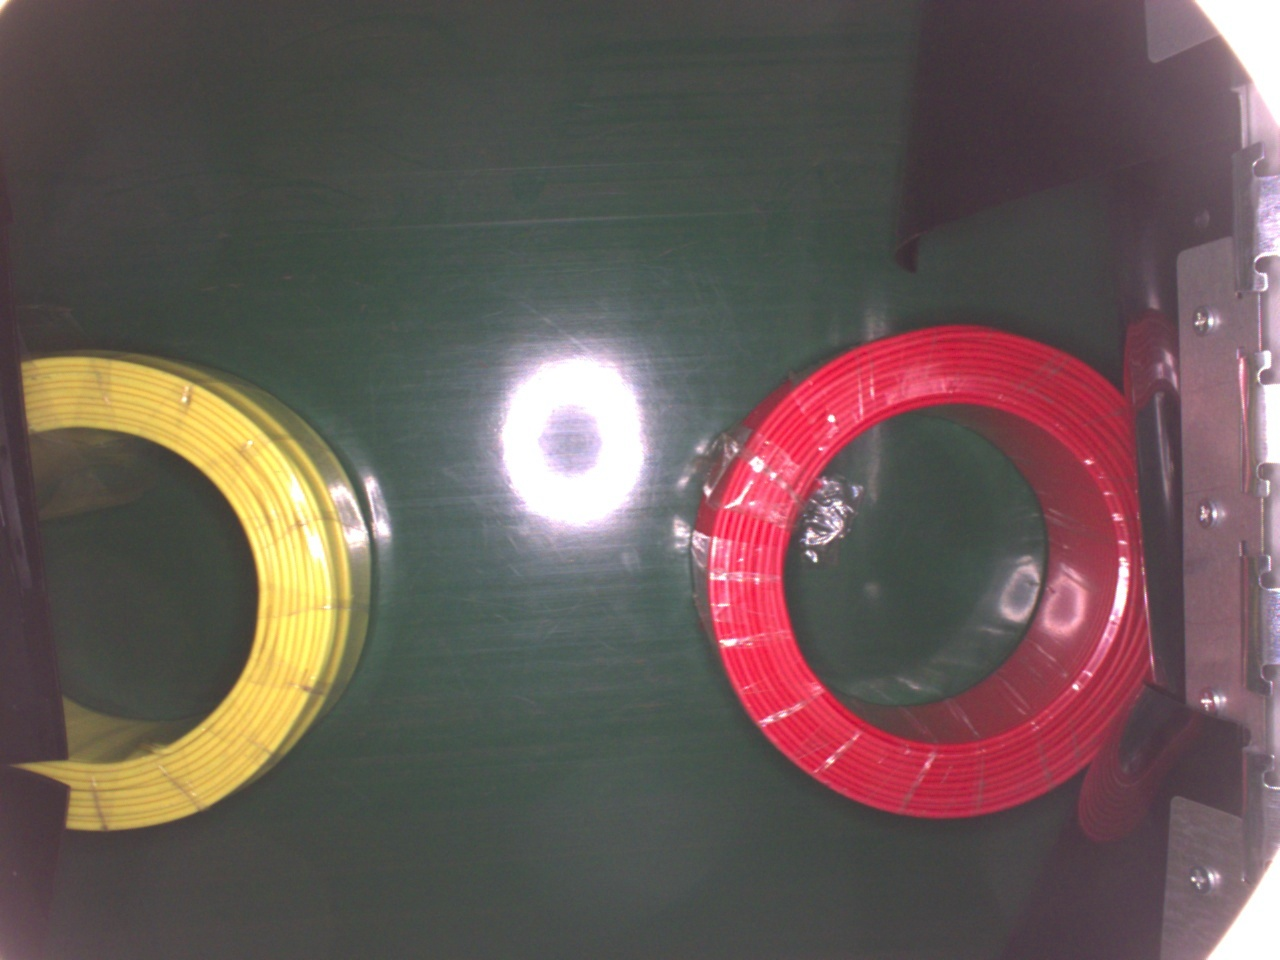red: (687, 323, 1154, 820)
yellow: (17, 351, 375, 834)
